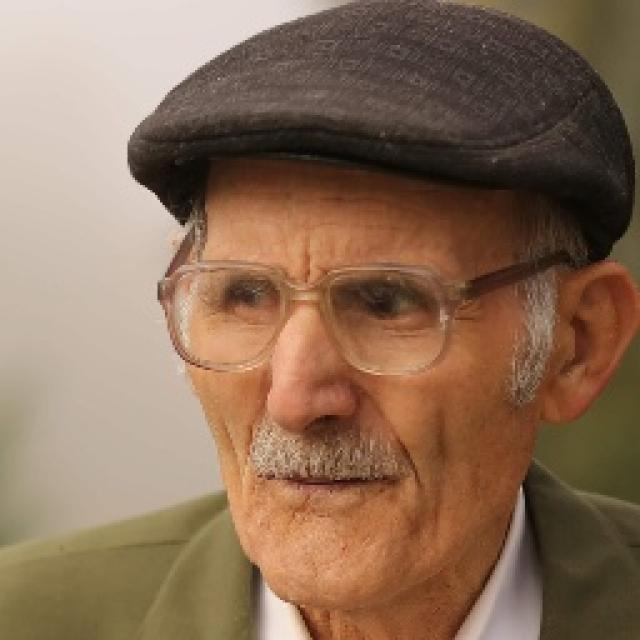glasses: (144, 212, 576, 388)
